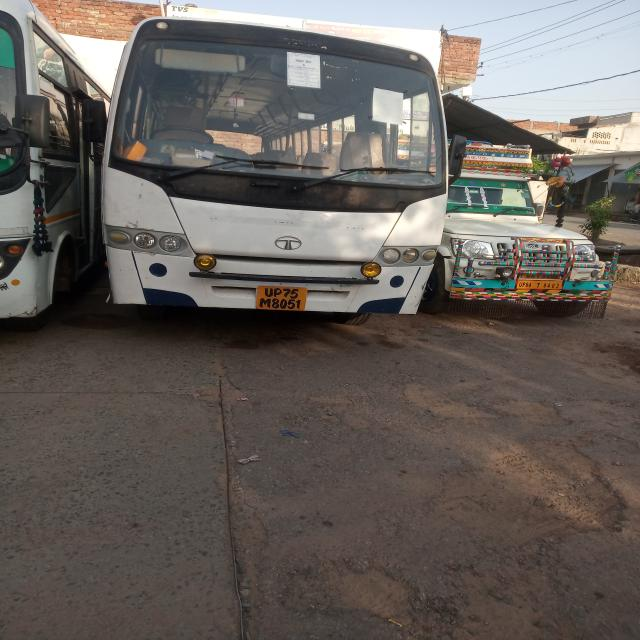Bus: (0, 0, 464, 322)
Truck: (419, 135, 614, 318)
